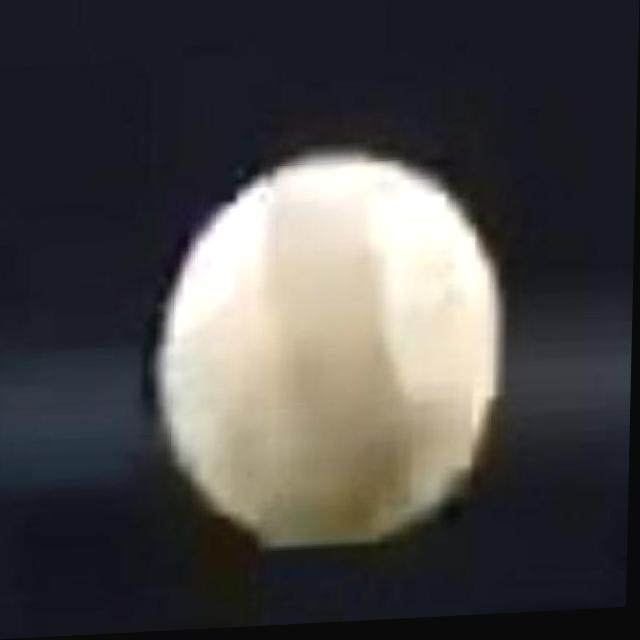-: (160, 151, 509, 570)
